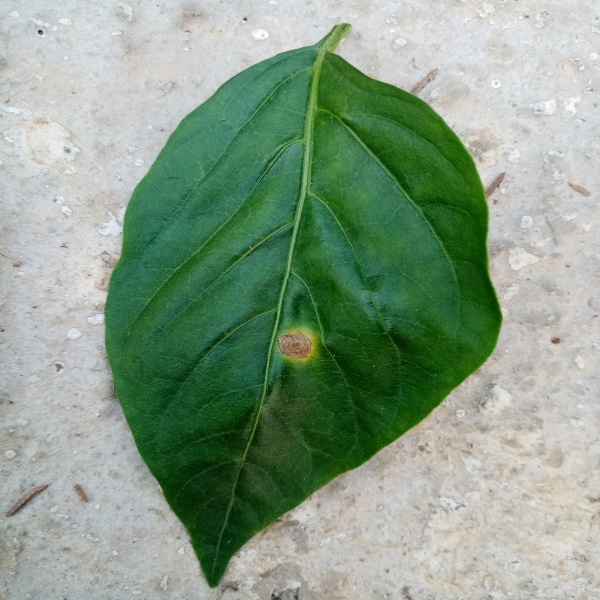Anthrax: (299, 428, 377, 508), (193, 200, 263, 278), (192, 441, 243, 498), (284, 135, 339, 180), (79, 418, 120, 468), (122, 332, 164, 372), (397, 392, 434, 434), (69, 187, 96, 218)
